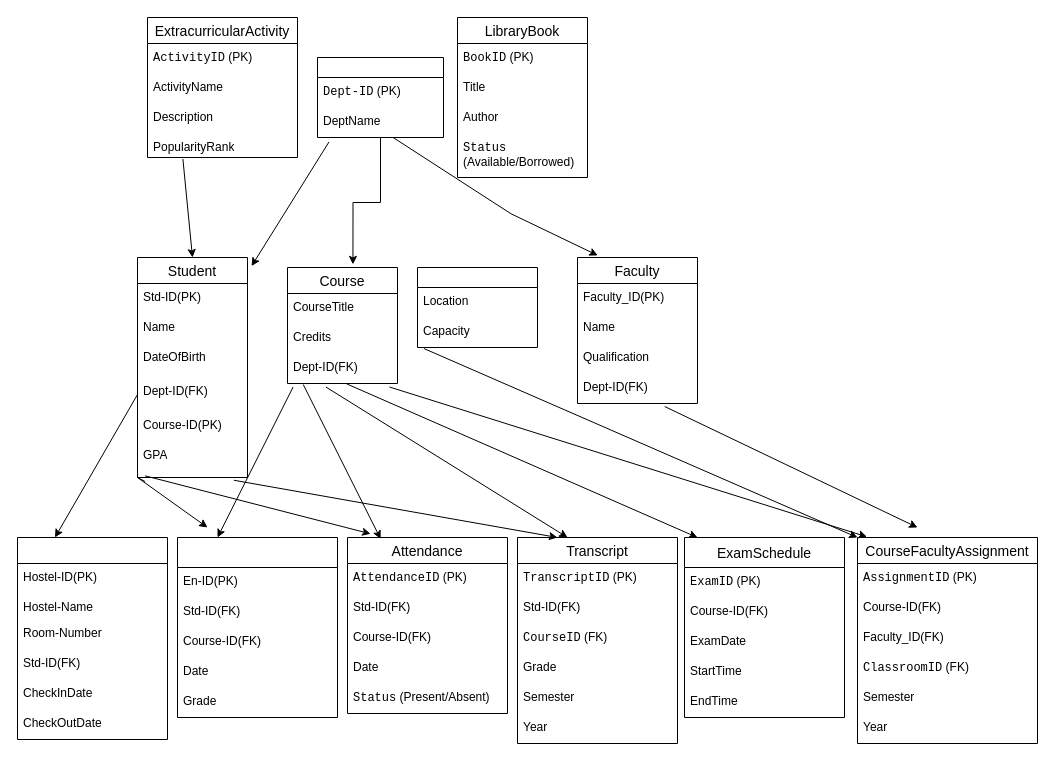
Some shapes in this 1055 by 764 pixel diagram are drawn without their labels. Each missing label, with the box of its shape:
Classroom: (416, 266, 538, 348)
Department: (316, 56, 444, 138)
Enrollment: (176, 536, 338, 718)
HostelAccommodation: (16, 536, 168, 740)
